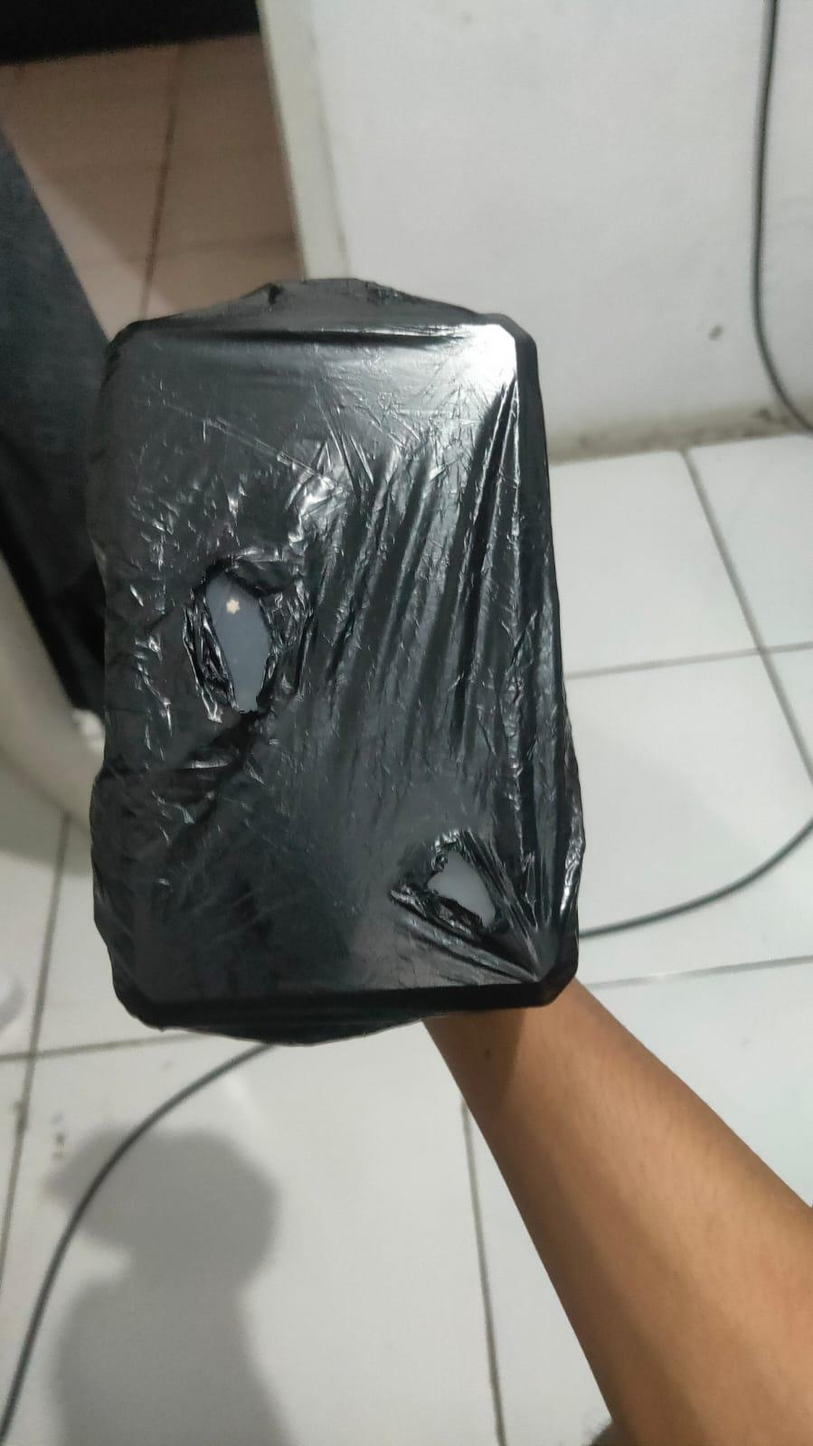damaged package: (170, 554, 287, 726), (404, 816, 512, 939)
undamaged: (52, 265, 609, 1064)
